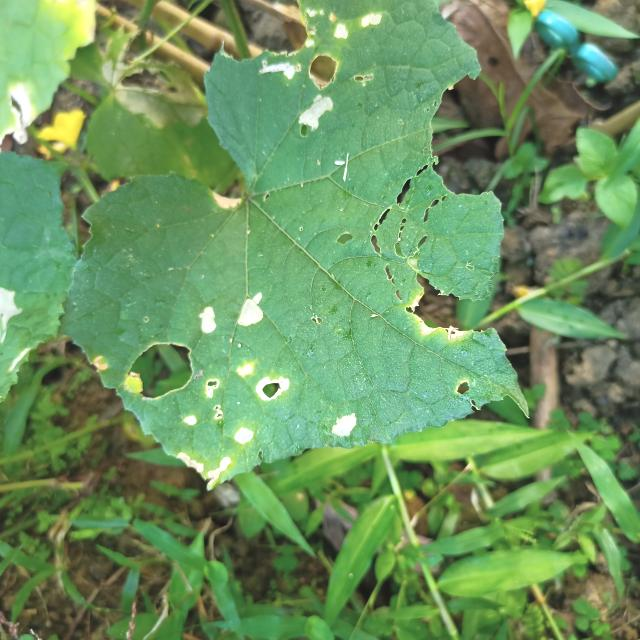disease_cucumber: (166, 370, 364, 484), (258, 57, 360, 136), (193, 298, 276, 339)
